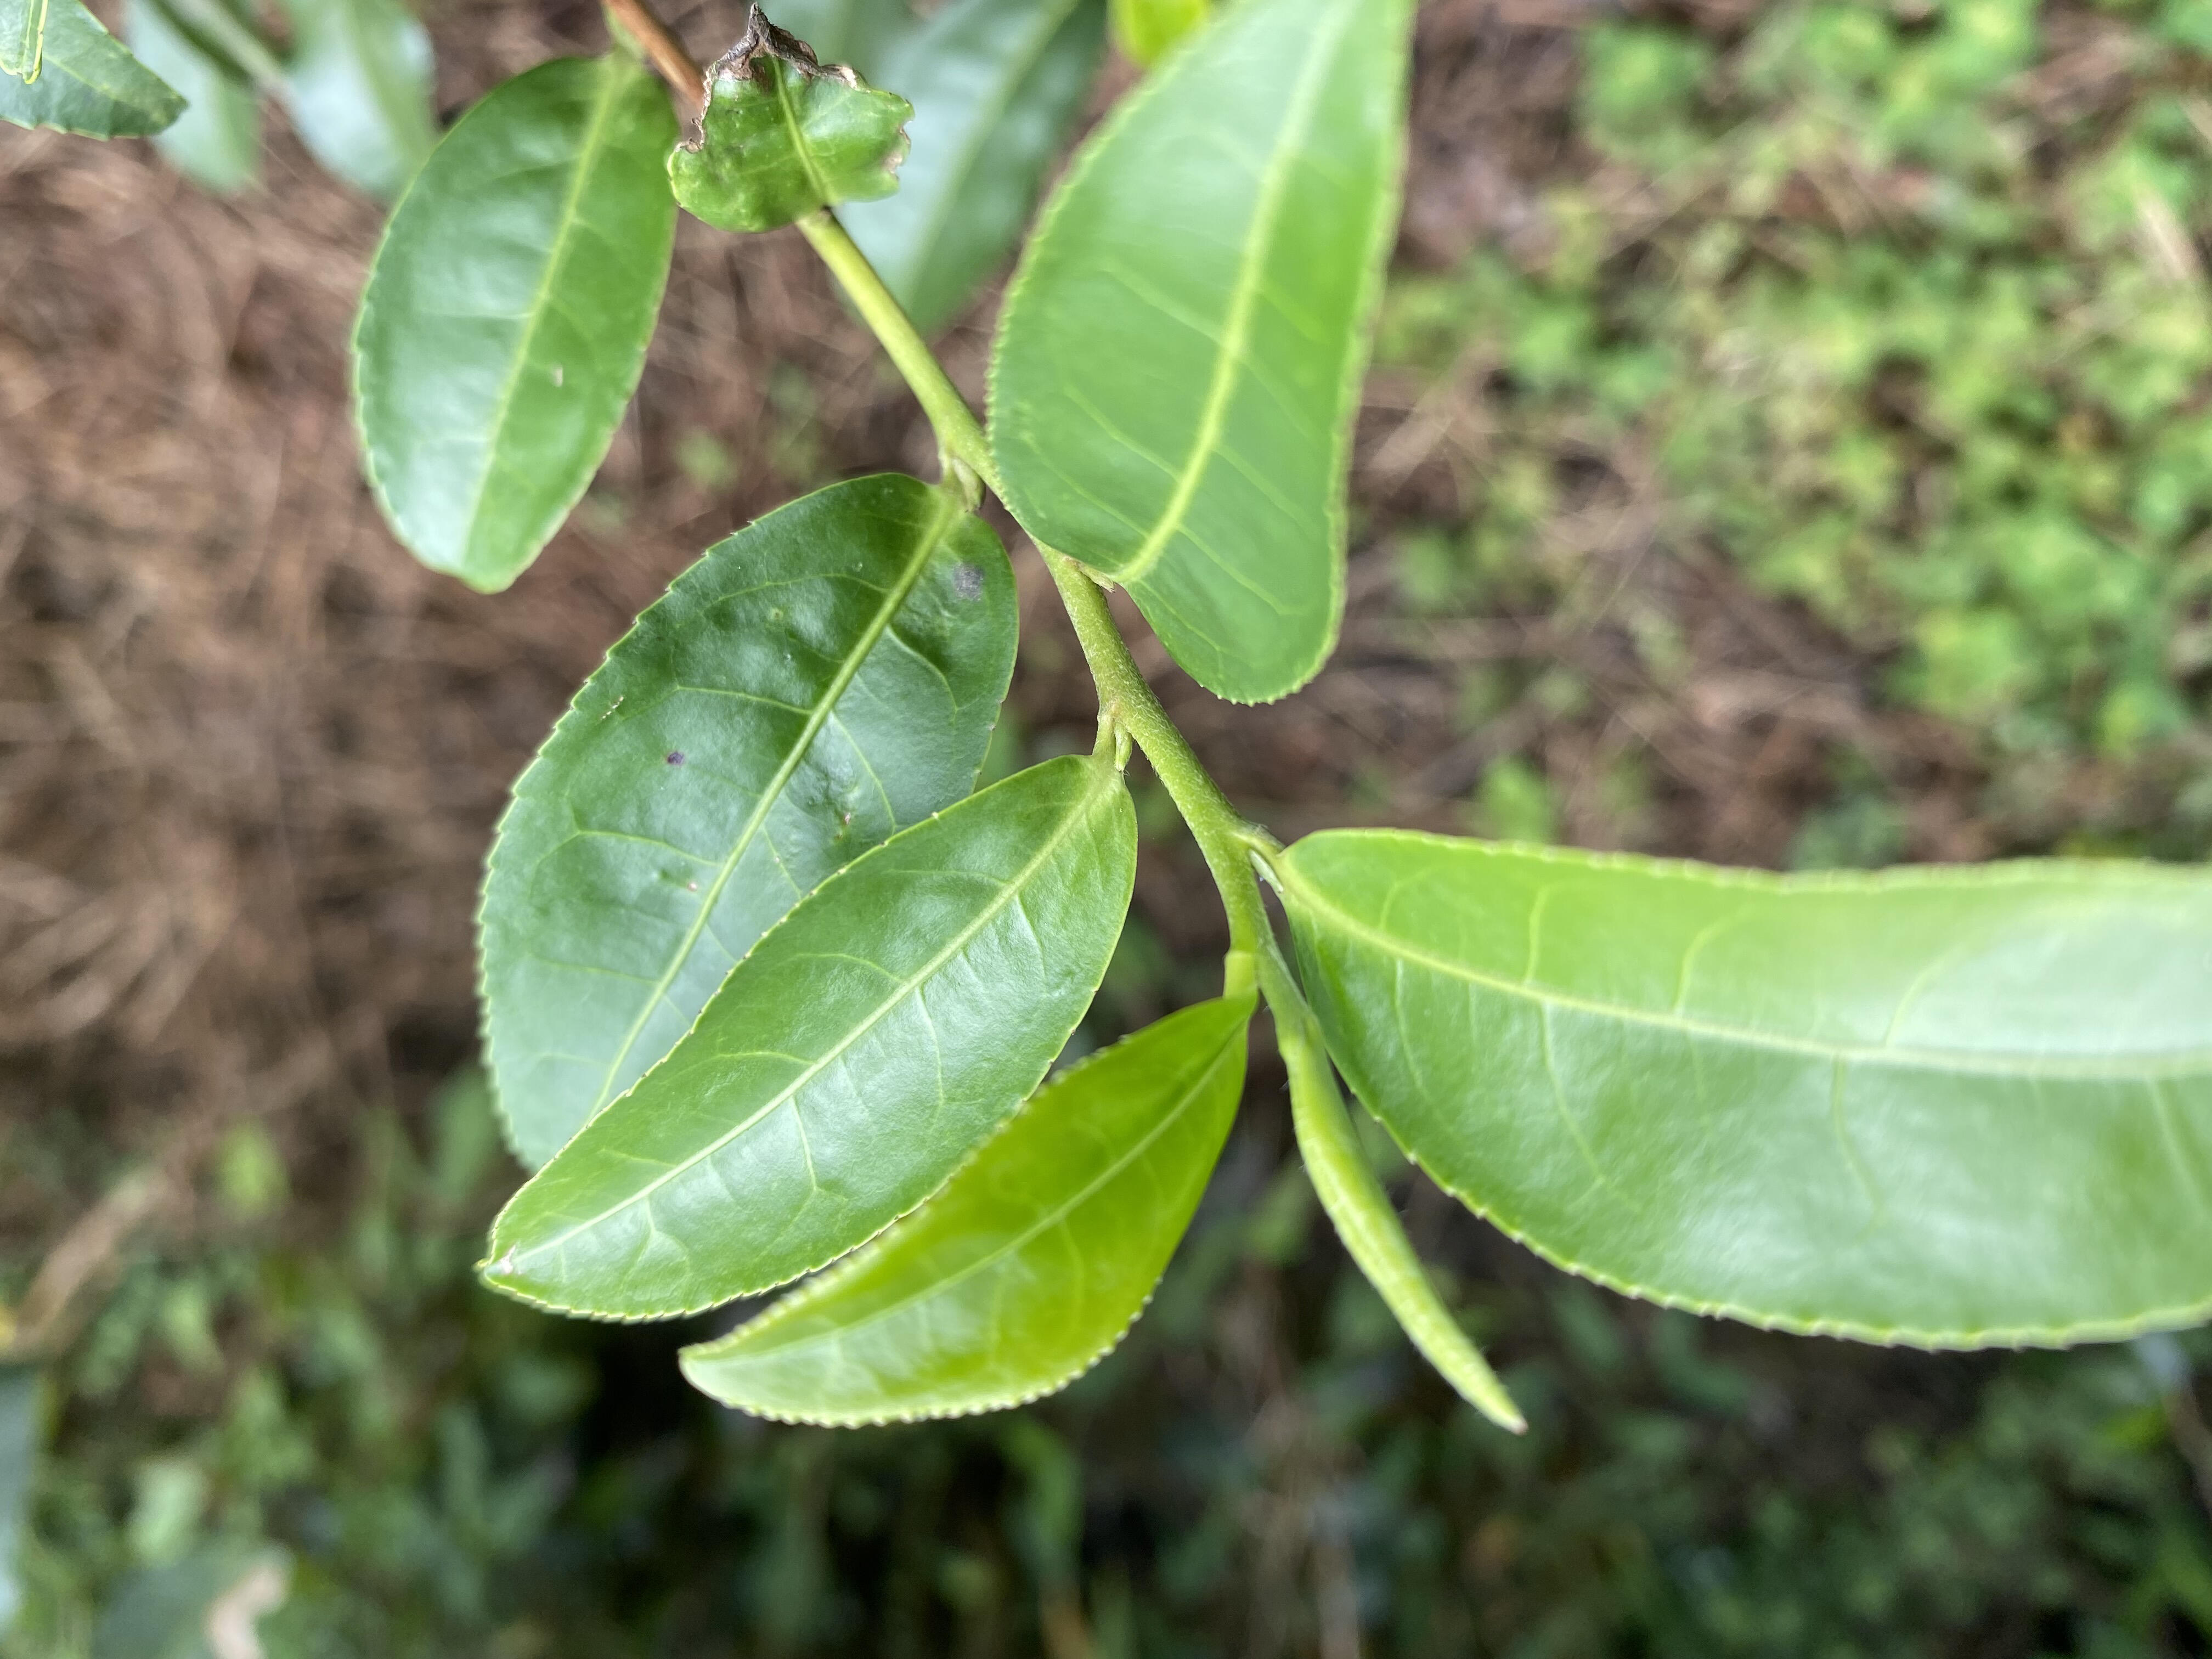chihuo_high: (665, 3, 914, 234)
healthy: (1275, 830, 2210, 1354), (472, 751, 1141, 1326), (979, 5, 1418, 709), (676, 1004, 1252, 1427), (336, 44, 685, 598)
